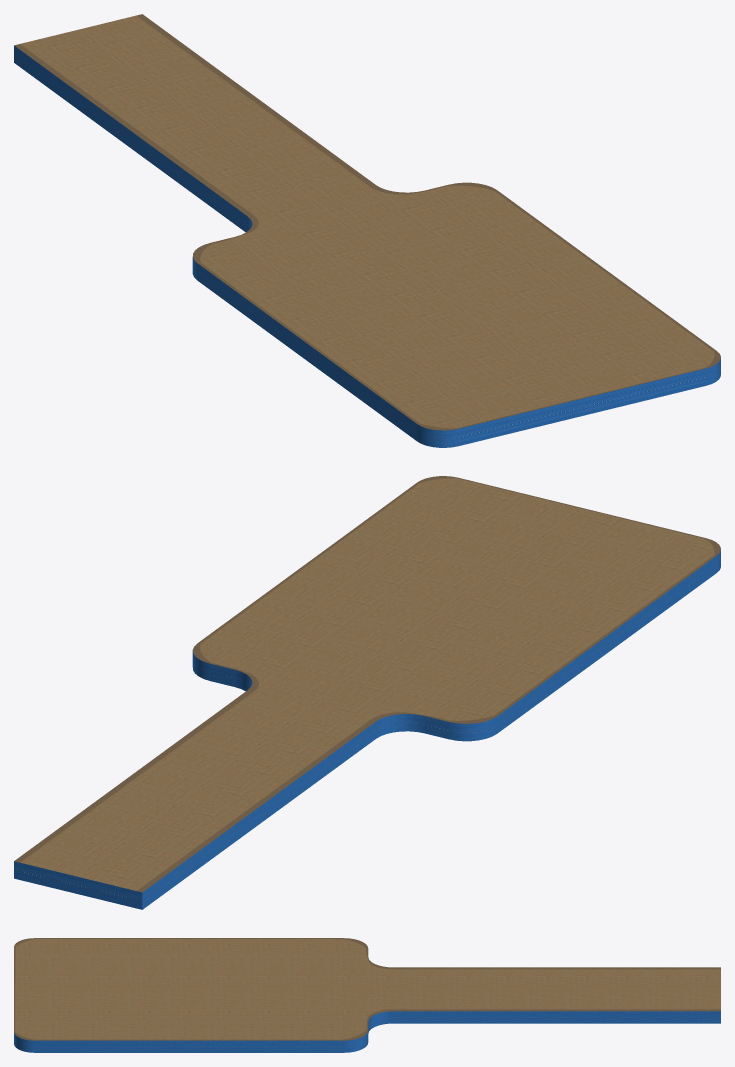
The model's file is ramp_3_1.FBX.
3 renders of one model, top to bottom at view 1: azimuth 30°, elevation 25°; view 2: azimuth 150°, elevation 25°; view 3: azimuth 270°, elevation 25°, orthographic. The views are drawn at different scales.
Visible parts, largest first — view 1: Line003; view 2: Line003; view 3: Line003.
Boxes of the visible parts, x1=… form: Line003: x1=14, y1=14, x2=720, y2=447; Line003: x1=14, y1=476, x2=720, y2=909; Line003: x1=14, y1=938, x2=720, y2=1052.
Bounding box in the file's own units: 1400 × 77.72 × 4078.
